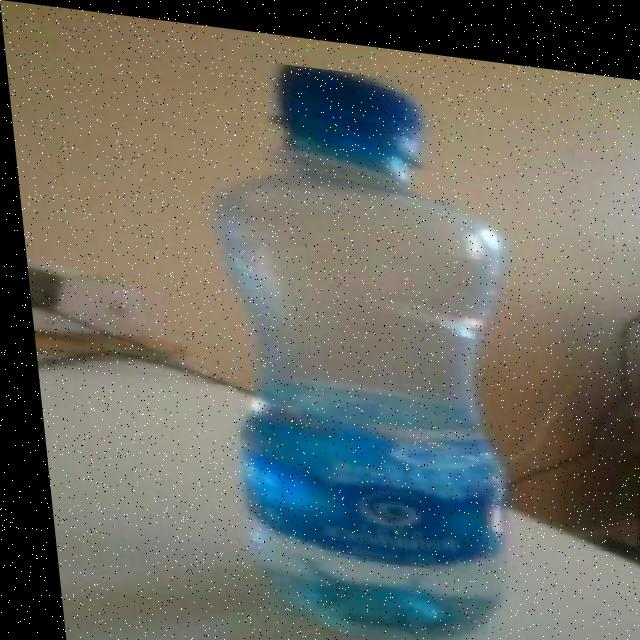litter: (252, 54, 440, 188)
